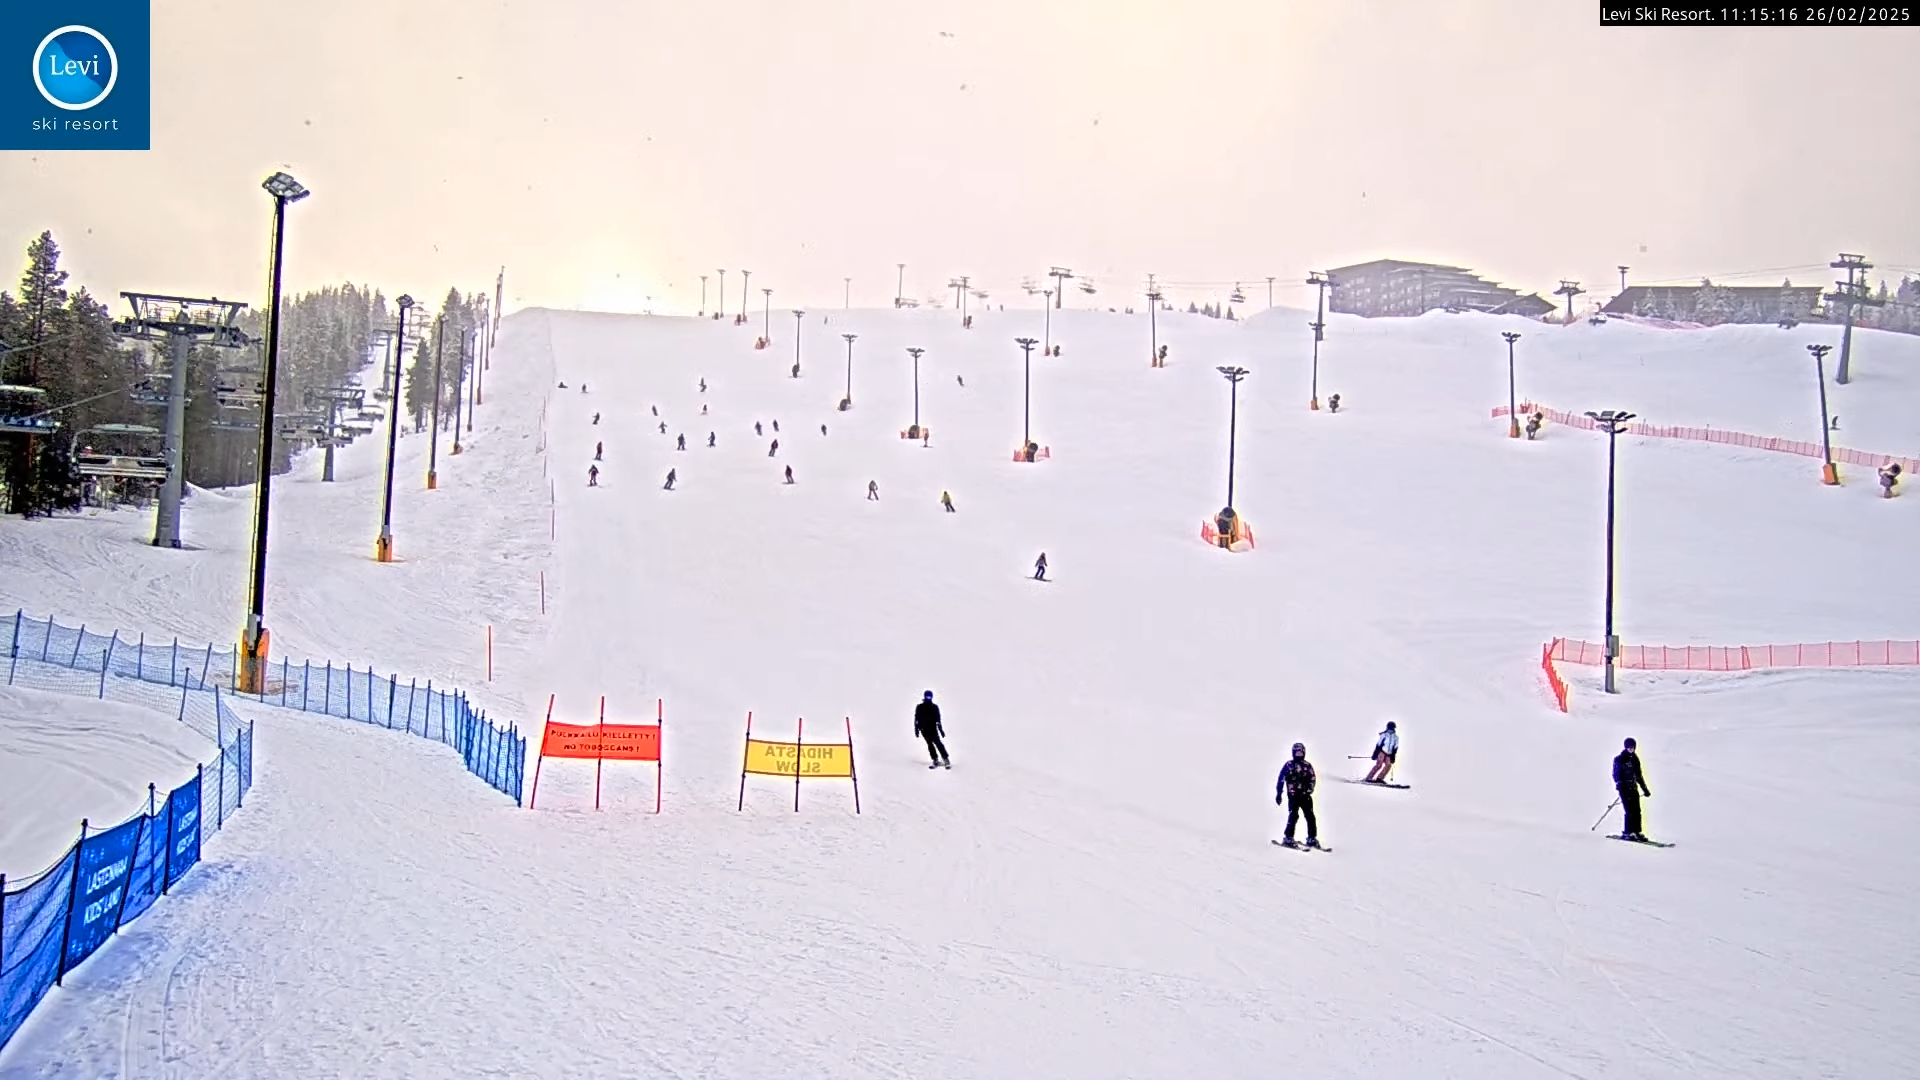skier: (1258, 742, 1333, 852), (1605, 736, 1675, 848), (902, 687, 959, 770), (1357, 715, 1410, 787)
